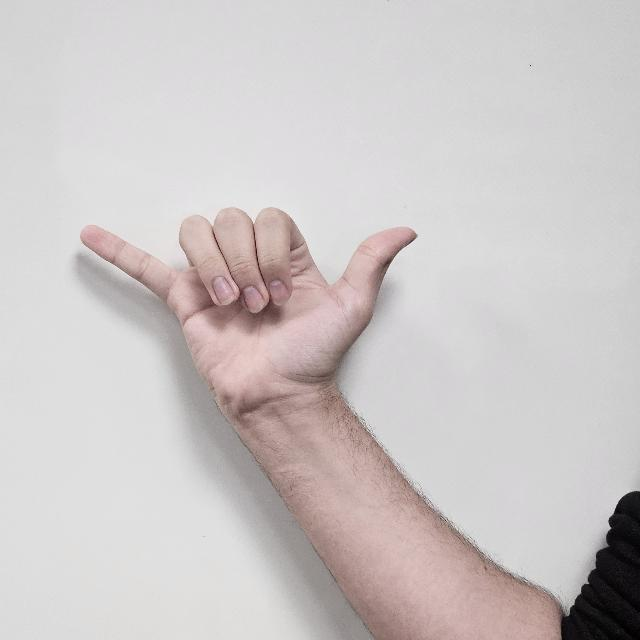Direita: (73, 190, 440, 464)
